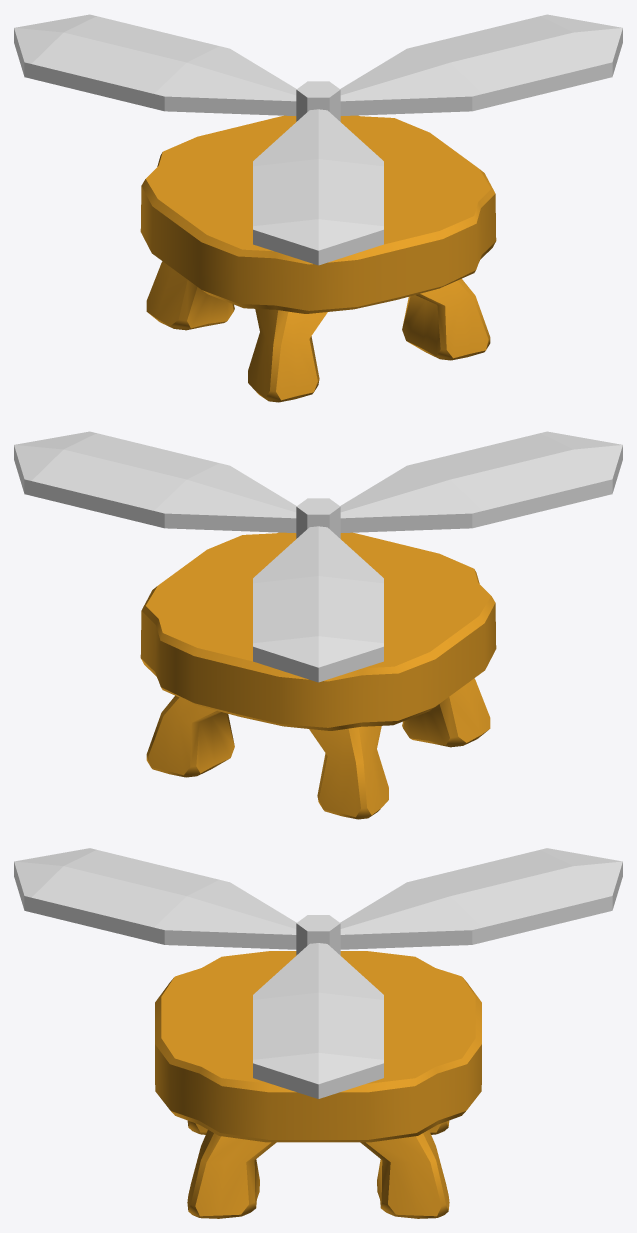
The model's file is StoolHelli.fbx.
3 renders of one model, top to bottom at view 1: azimuth 30°, elevation 25°; view 2: azimuth 150°, elevation 25°; view 3: azimuth 270°, elevation 25°, orthographic.
Visible parts, largest first — view 1: StoolHelli, Cube.035, Cylinder; view 2: StoolHelli, Cube.035, Cylinder; view 3: Cube.035, StoolHelli, Cylinder.
Part boxes in pixels (left/top/right/bottom): StoolHelli: left=140, top=115, right=496, bottom=402; Cube.035: left=14, top=14, right=622, bottom=265; Cylinder: left=296, top=81, right=340, bottom=121; StoolHelli: left=140, top=532, right=496, bottom=819; Cube.035: left=14, top=431, right=622, bottom=682; Cylinder: left=296, top=498, right=340, bottom=538; Cube.035: left=14, top=848, right=622, bottom=1098; StoolHelli: left=155, top=951, right=481, bottom=1218; Cylinder: left=296, top=915, right=340, bottom=955.
Bounding box in the file's own units: 186 × 171 × 81.8.
